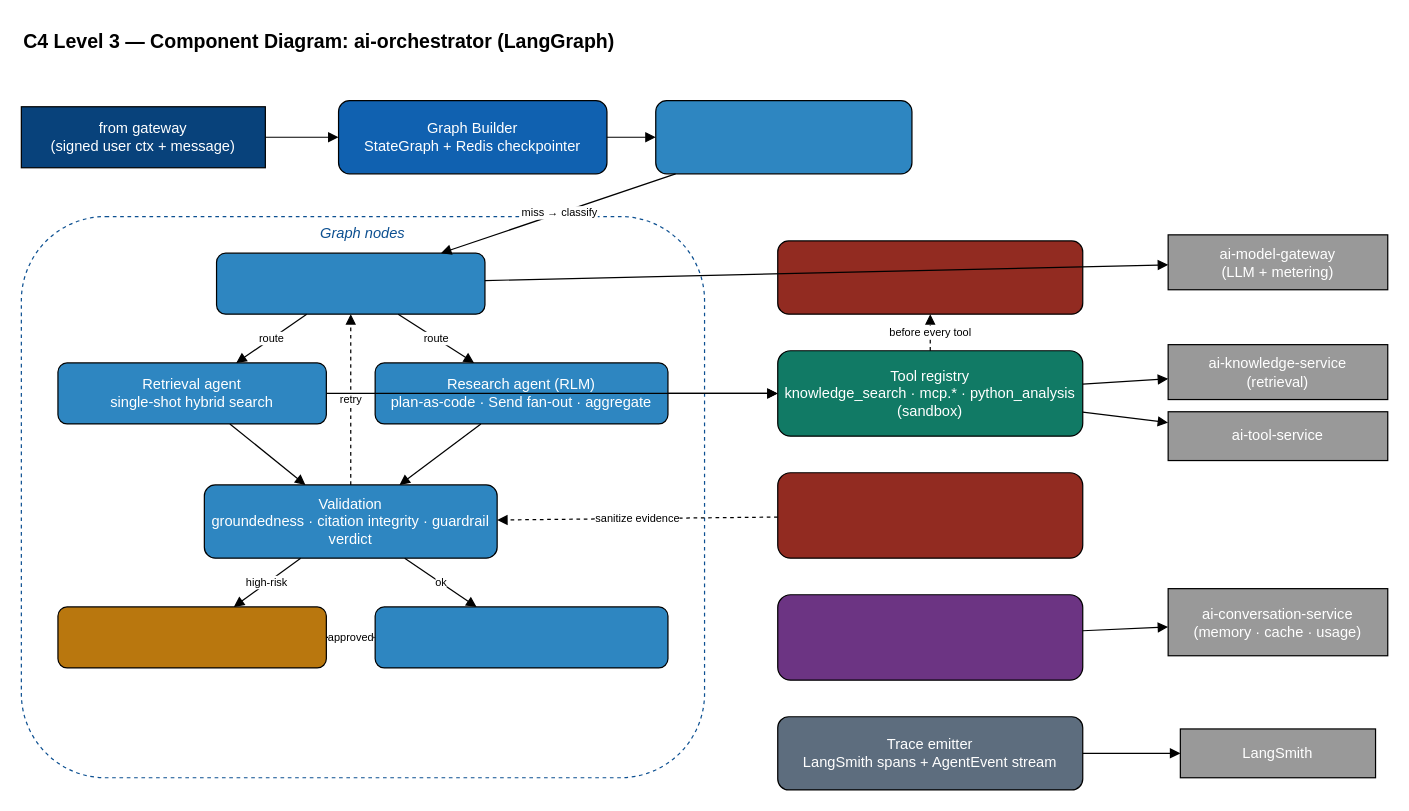
The diagram is 1409 pixels wide and 811 high, and some of its shapes have lost their labels. The shapes that lost their labels are listed below. From the top down, each one's box as (x1, y1, x2, y2) in pixels, then its label:
(655, 99, 912, 174): Router node (first) cache? context? else classify
(215, 252, 485, 314): Supervisor intent · decompose · route
(777, 240, 1083, 314): Policy Enforcement Point (libs/authz) role×action×resource
(777, 472, 1083, 558): Guardrails input (injection) · content sanitize · output (brand/citation)
(57, 606, 326, 668): HITL Approval interrupt() for high-risk ops
(374, 606, 668, 668): Response synthesize + stream + cite
(777, 594, 1083, 680): Memory managers short-term (checkpointer) · long-term (vector/PG)
